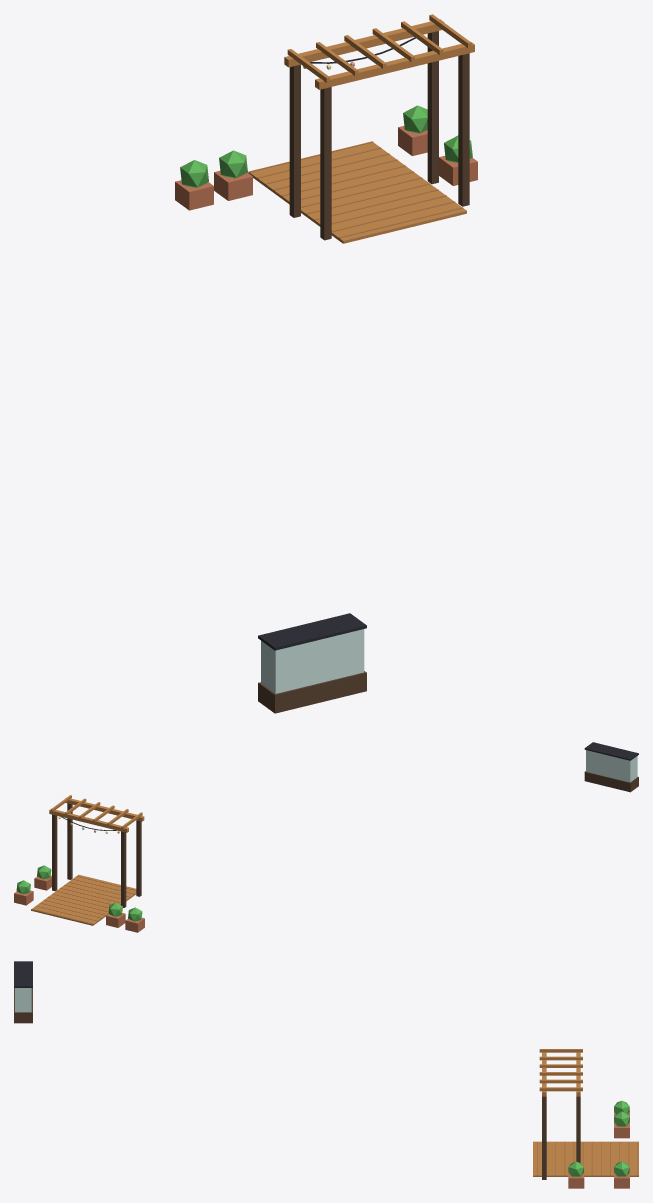
Rendered from CatCafe_Plot_Tier4_60x46.glb.
3 views of the same model, one above another, from view 1: azimuth 30°, elevation 25°; view 2: azimuth 150°, elevation 25°; view 3: azimuth 270°, elevation 25° (orthographic). The views are drawn at different scales.
Visible parts, largest first — view 1: CatCafe_Plot_Tier4_60x46, CatCafe_Plot_Tier4_60x46_Glass; view 2: CatCafe_Plot_Tier4_60x46, CatCafe_Plot_Tier4_60x46_Glass; view 3: CatCafe_Plot_Tier4_60x46, CatCafe_Plot_Tier4_60x46_Glass.
Boxes of the visible parts, <box> form: CatCafe_Plot_Tier4_60x46: <box>175,14,477,713</box>; CatCafe_Plot_Tier4_60x46_Glass: <box>261,629,364,693</box>; CatCafe_Plot_Tier4_60x46: <box>14,742,638,932</box>; CatCafe_Plot_Tier4_60x46_Glass: <box>586,750,637,782</box>; CatCafe_Plot_Tier4_60x46: <box>14,961,638,1188</box>; CatCafe_Plot_Tier4_60x46_Glass: <box>15,988,31,1012</box>.
Size of the model in its own units: 39.52 by 8.85 by 54.75.
Materials: 1 (1 with a texture image).
